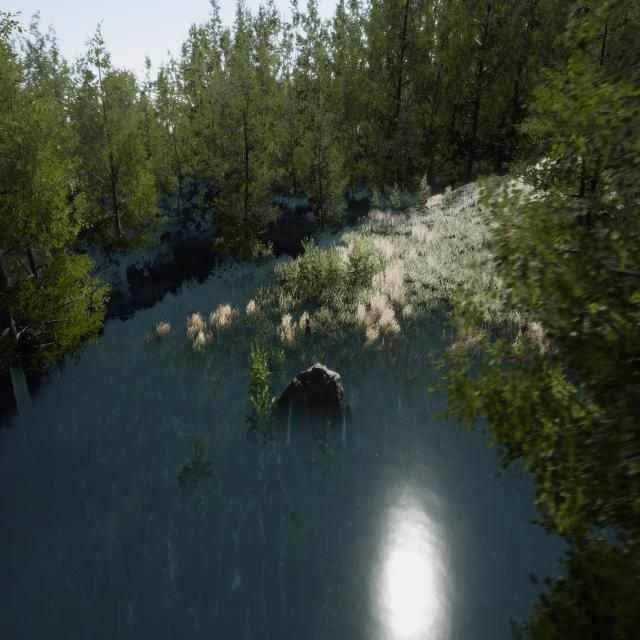Human: (300, 310, 314, 350)
